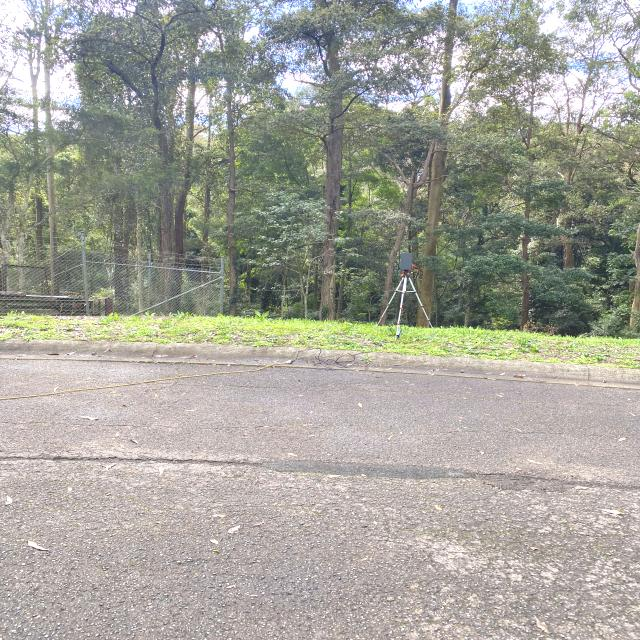matrix: (400, 252, 412, 271)
